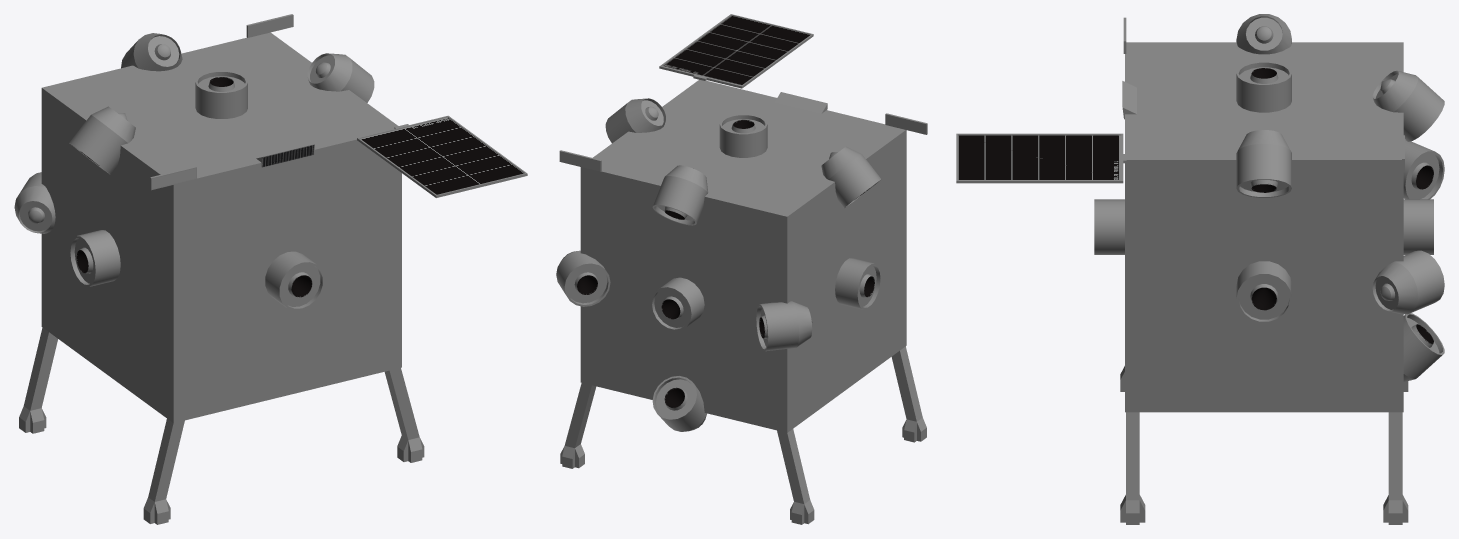
File: spacecube.FBX
3 views of the same model, side by side, from view 1: azimuth 30°, elevation 25°; view 2: azimuth 150°, elevation 25°; view 3: azimuth 270°, elevation 25° (orthographic). The views are drawn at different scales.
Visible parts, largest first — view 1: Box001, Box009, Object002, Object001; view 2: Box001, Box009, Object001, Object002; view 3: Box001, Box009.
Part boxes in pixels (bbox=[...]): Box001: bbox=[14, 32, 424, 524]; Box009: bbox=[357, 115, 527, 197]; Object002: bbox=[246, 14, 293, 37]; Object001: bbox=[150, 166, 196, 190]; Box001: bbox=[556, 79, 926, 524]; Box009: bbox=[659, 14, 813, 88]; Object001: bbox=[885, 113, 927, 134]; Object002: bbox=[559, 150, 601, 171]; Box001: bbox=[1094, 14, 1444, 524]; Box009: bbox=[956, 133, 1126, 183].
Size of the model in its own units: 0.0135 by 0.0175 by 0.0151.
